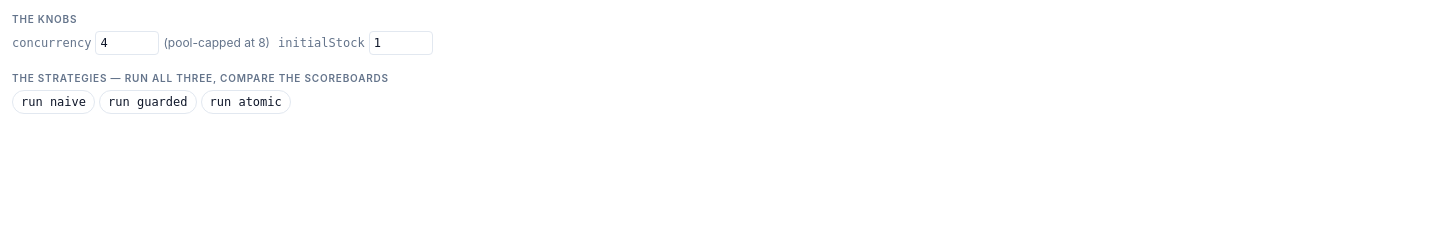
Test: RaceDemo › shows the held badge when atomic guards the decrement
Click the button with test id "race-run-atomic".
click(246, 102)  # box [200,90,291,114]
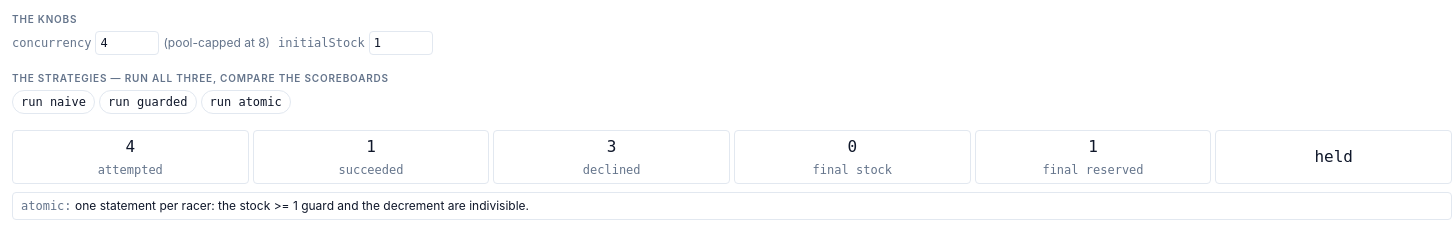
Expected: the text with test id "race-oversold" reads "held", [1314,147,1353,166]
Expected: the text with test id "race-succeeded" reads "1", [366,137,376,156]
Expected: the text with test id "race-declined" reads "3", [607,137,616,156]
